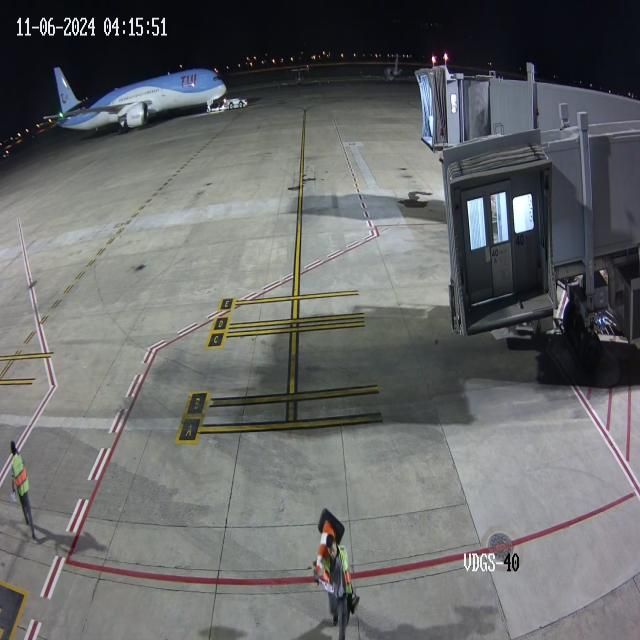bridge: (433, 65, 492, 149)
plane: (31, 1, 253, 141)
window: (212, 74, 222, 83)
